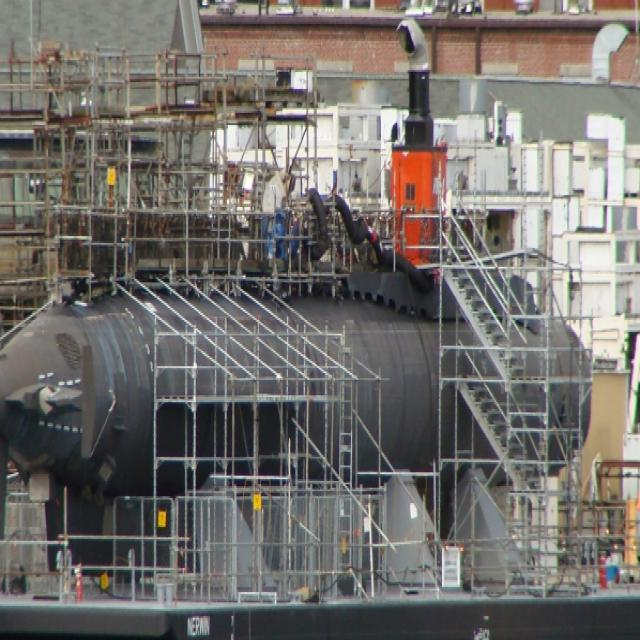submarine: (1, 259, 594, 511)
